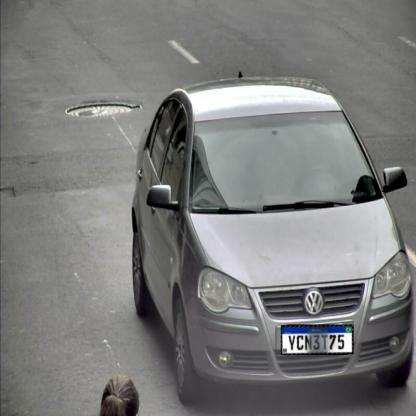PlacaM: (280, 324, 353, 355)
